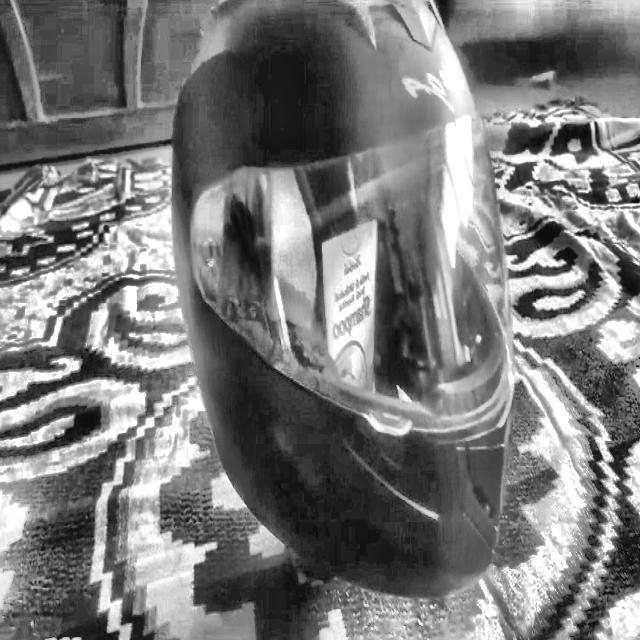Helmet: (161, 0, 521, 608)
